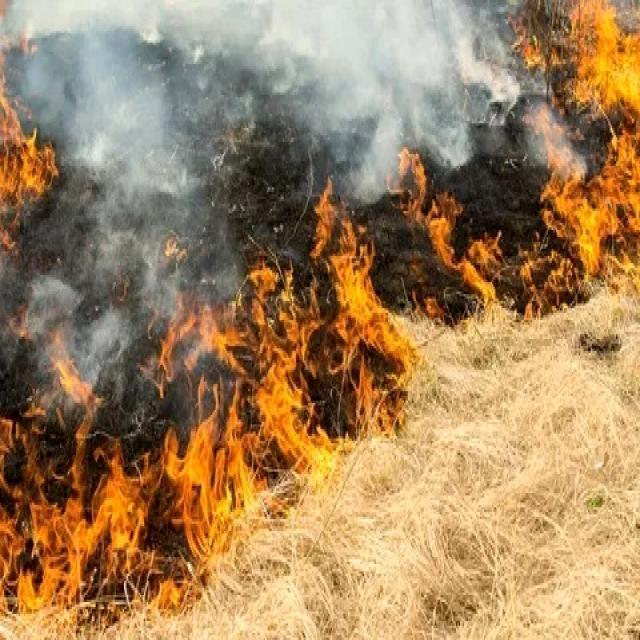Fire: (2, 361, 304, 640), (217, 197, 443, 478), (390, 132, 640, 338), (566, 8, 640, 108), (0, 100, 55, 202)
Smoke: (219, 0, 610, 196), (0, 0, 228, 315)
